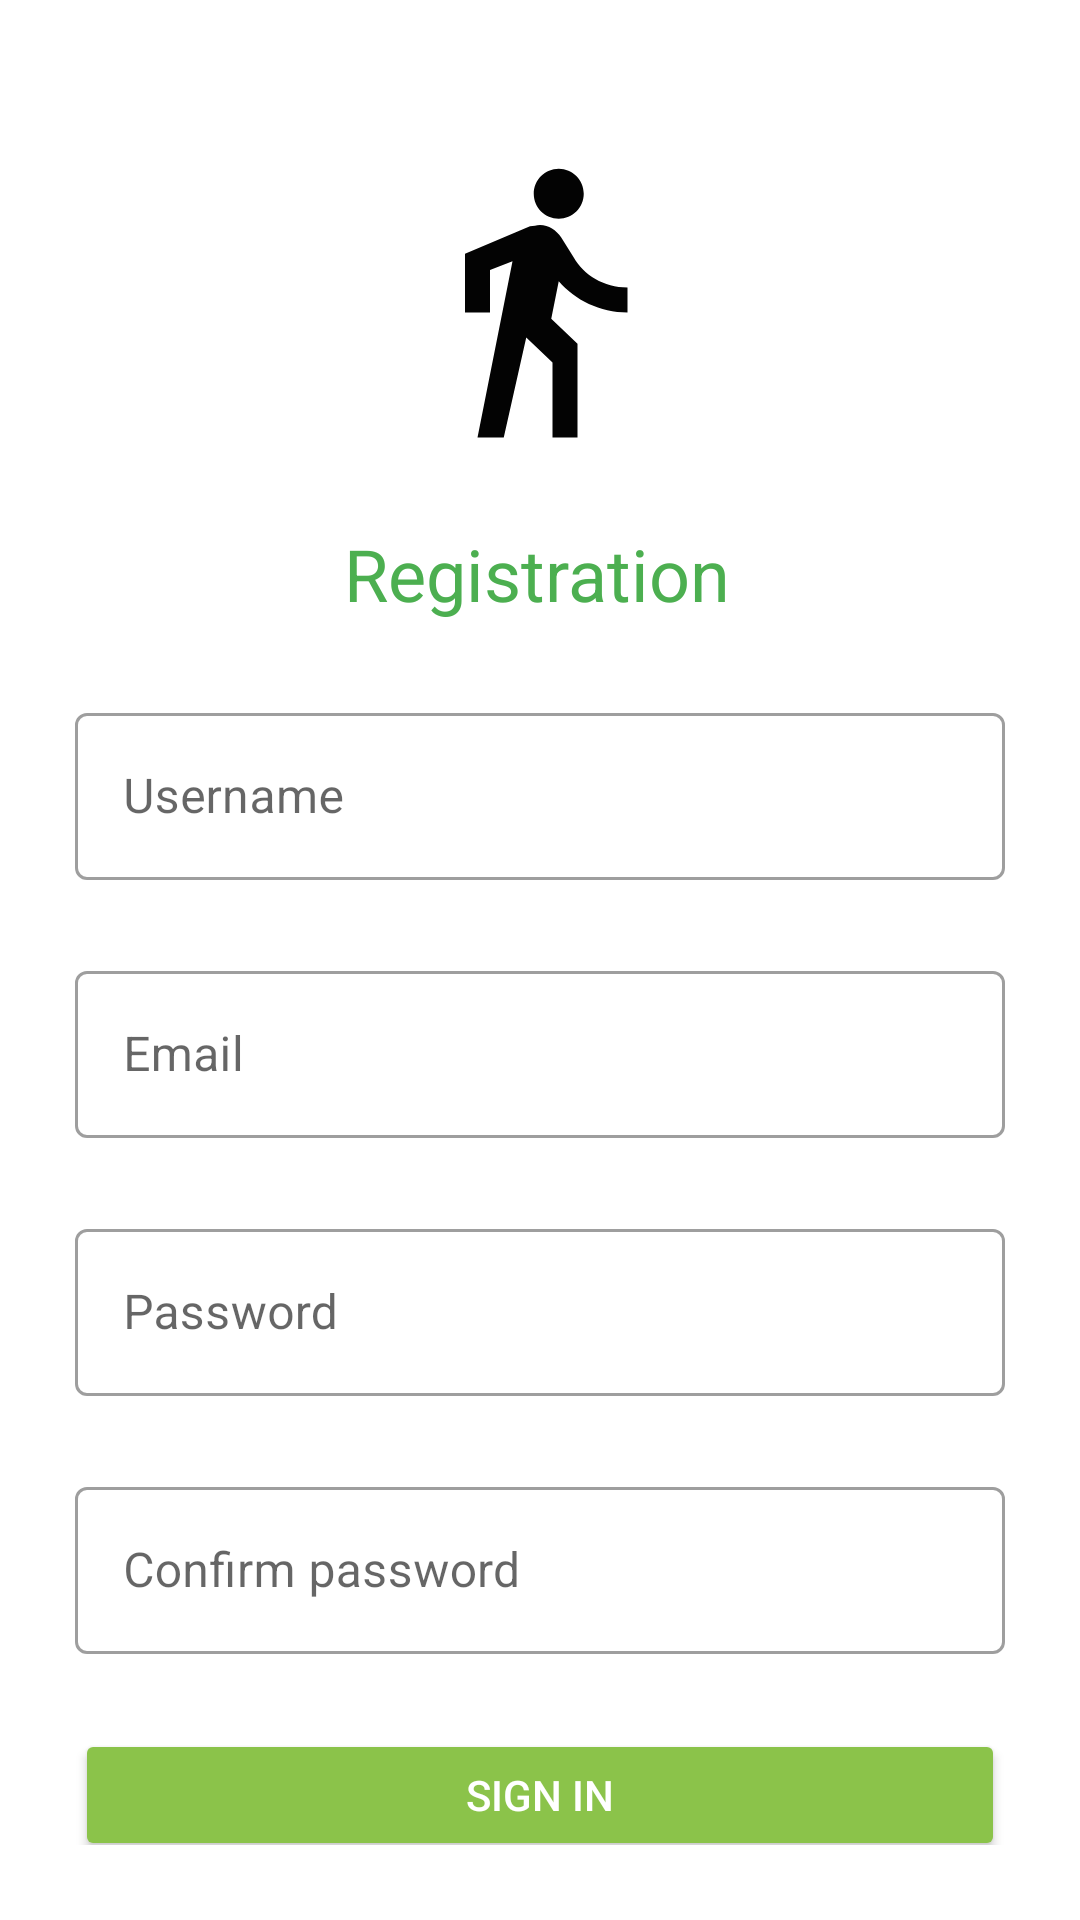

Named icons in this screenshot (1080w x 1920h) and their centers, (x,y):
directions walk: (546,303)
